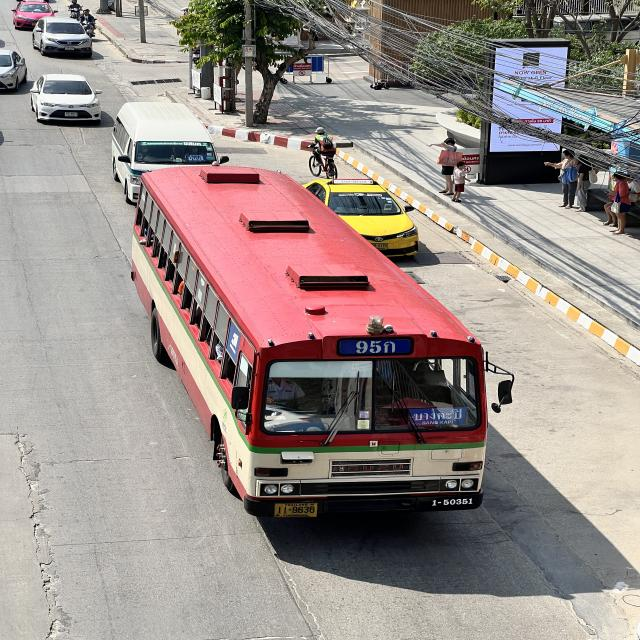BMTA-bus: (127, 162, 490, 518)
Bus-Line-Number: (335, 337, 415, 360)
Destination-Sign-Normal: (410, 406, 468, 426)
